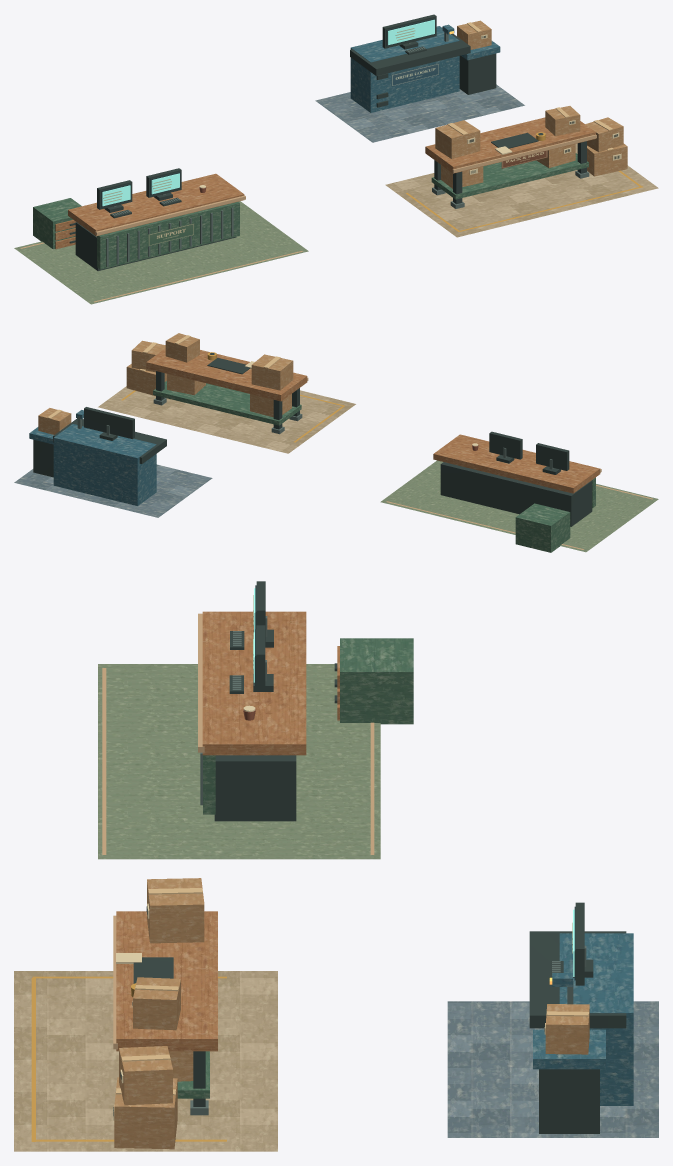
The model's file is stations.glb.
3 renders of one model, top to bottom at view 1: azimuth 30°, elevation 25°; view 2: azimuth 150°, elevation 25°; view 3: azimuth 270°, elevation 25°, orthographic. The views are drawn at different scales.
Parts seen in each view (by area): view 1: Customer support desk · Support rug, Packing bench and staging area · Packing concrete, Order lookup and barcode scanner · Lookup tile, Customer support desk · Green panel, Order lookup and barcode scanner · Blue workstation, Packing bench and staging area · Cardboard, Customer support desk · Oak top, Order lookup and barcode scanner · Iron, Packing bench and staging area · Oak top, Packing bench and staging area · Green panel, Customer support desk · Iron, Packing bench and staging area · Iron (+9 smaller); view 2: Order lookup and barcode scanner · Blue workstation, Packing bench and staging area · Packing concrete, Customer support desk · Support rug, Customer support desk · Iron, Packing bench and staging area · Cardboard, Customer support desk · Oak top, Order lookup and barcode scanner · Lookup tile, Packing bench and staging area · Oak top, Order lookup and barcode scanner · Iron, Customer support desk · Green panel, Packing bench and staging area · Green panel, Packing bench and staging area · Iron (+2 smaller); view 3: Customer support desk · Support rug, Packing bench and staging area · Packing concrete, Order lookup and barcode scanner · Lookup tile, Customer support desk · Oak top, Packing bench and staging area · Cardboard, Order lookup and barcode scanner · Blue workstation, Packing bench and staging area · Oak top, Order lookup and barcode scanner · Iron, Customer support desk · Iron, Customer support desk · Green panel, Customer support desk · Edge band, Order lookup and barcode scanner · Cardboard (+3 smaller).
Boxes of the visible parts, x1,y1,x2,y2 form: Customer support desk · Support rug: (14, 201, 308, 304); Packing bench and staging area · Packing concrete: (385, 143, 658, 237); Order lookup and barcode scanner · Lookup tile: (315, 84, 524, 142); Customer support desk · Green panel: (33, 198, 239, 269); Order lookup and barcode scanner · Blue workstation: (350, 24, 500, 112); Packing bench and staging area · Cardboard: (435, 106, 627, 188); Customer support desk · Oak top: (55, 173, 244, 249); Order lookup and barcode scanner · Iron: (350, 14, 496, 107); Packing bench and staging area · Oak top: (425, 117, 595, 173); Packing bench and staging area · Green panel: (431, 153, 588, 199); Customer support desk · Iron: (69, 168, 236, 270); Packing bench and staging area · Iron: (434, 121, 619, 204); Order lookup and barcode scanner · Blue workstation: (29, 410, 156, 505); Packing bench and staging area · Packing concrete: (98, 386, 355, 453); Customer support desk · Support rug: (380, 460, 658, 552); Customer support desk · Iron: (440, 431, 592, 526); Packing bench and staging area · Cardboard: (126, 333, 293, 417); Customer support desk · Oak top: (433, 434, 600, 493); Order lookup and barcode scanner · Lookup tile: (14, 464, 212, 517); Packing bench and staging area · Oak top: (146, 348, 307, 401); Order lookup and barcode scanner · Iron: (33, 407, 166, 477); Customer support desk · Green panel: (515, 477, 595, 552); Packing bench and staging area · Green panel: (153, 381, 301, 425); Packing bench and staging area · Iron: (156, 353, 299, 429); Customer support desk · Support rug: (98, 664, 380, 859); Packing bench and staging area · Packing concrete: (14, 971, 277, 1151); Order lookup and barcode scanner · Lookup tile: (447, 1001, 658, 1137); Customer support desk · Oak top: (202, 611, 339, 755); Packing bench and staging area · Cardboard: (114, 878, 204, 1149); Order lookup and barcode scanner · Blue workstation: (533, 933, 633, 1105); Packing bench and staging area · Oak top: (116, 911, 217, 1051); Order lookup and barcode scanner · Iron: (529, 902, 626, 1133); Customer support desk · Iron: (214, 581, 337, 821); Customer support desk · Green panel: (203, 638, 413, 814); Customer support desk · Edge band: (102, 613, 374, 854); Order lookup and barcode scanner · Cardboard: (545, 1004, 589, 1054).
Bounding box in the file's own units: 13.6 × 1.85 × 7.6.
21 materials, 10 textured.
